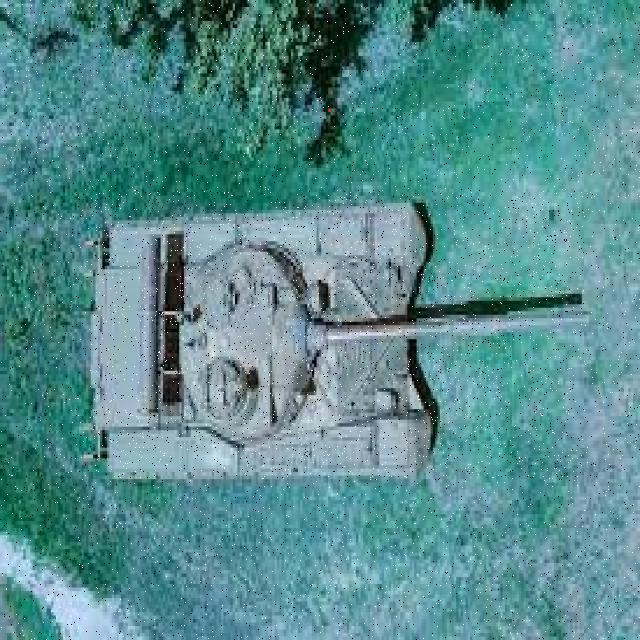MIL_MBT: (90, 190, 583, 478)
